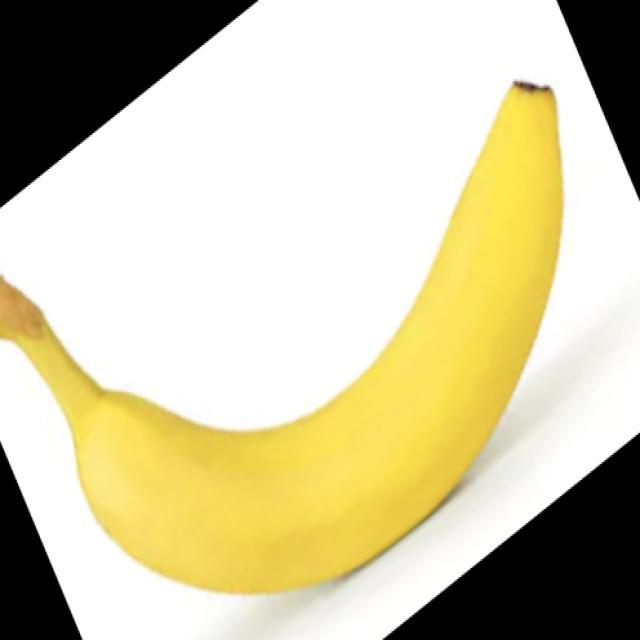Banana: (0, 78, 565, 595)
